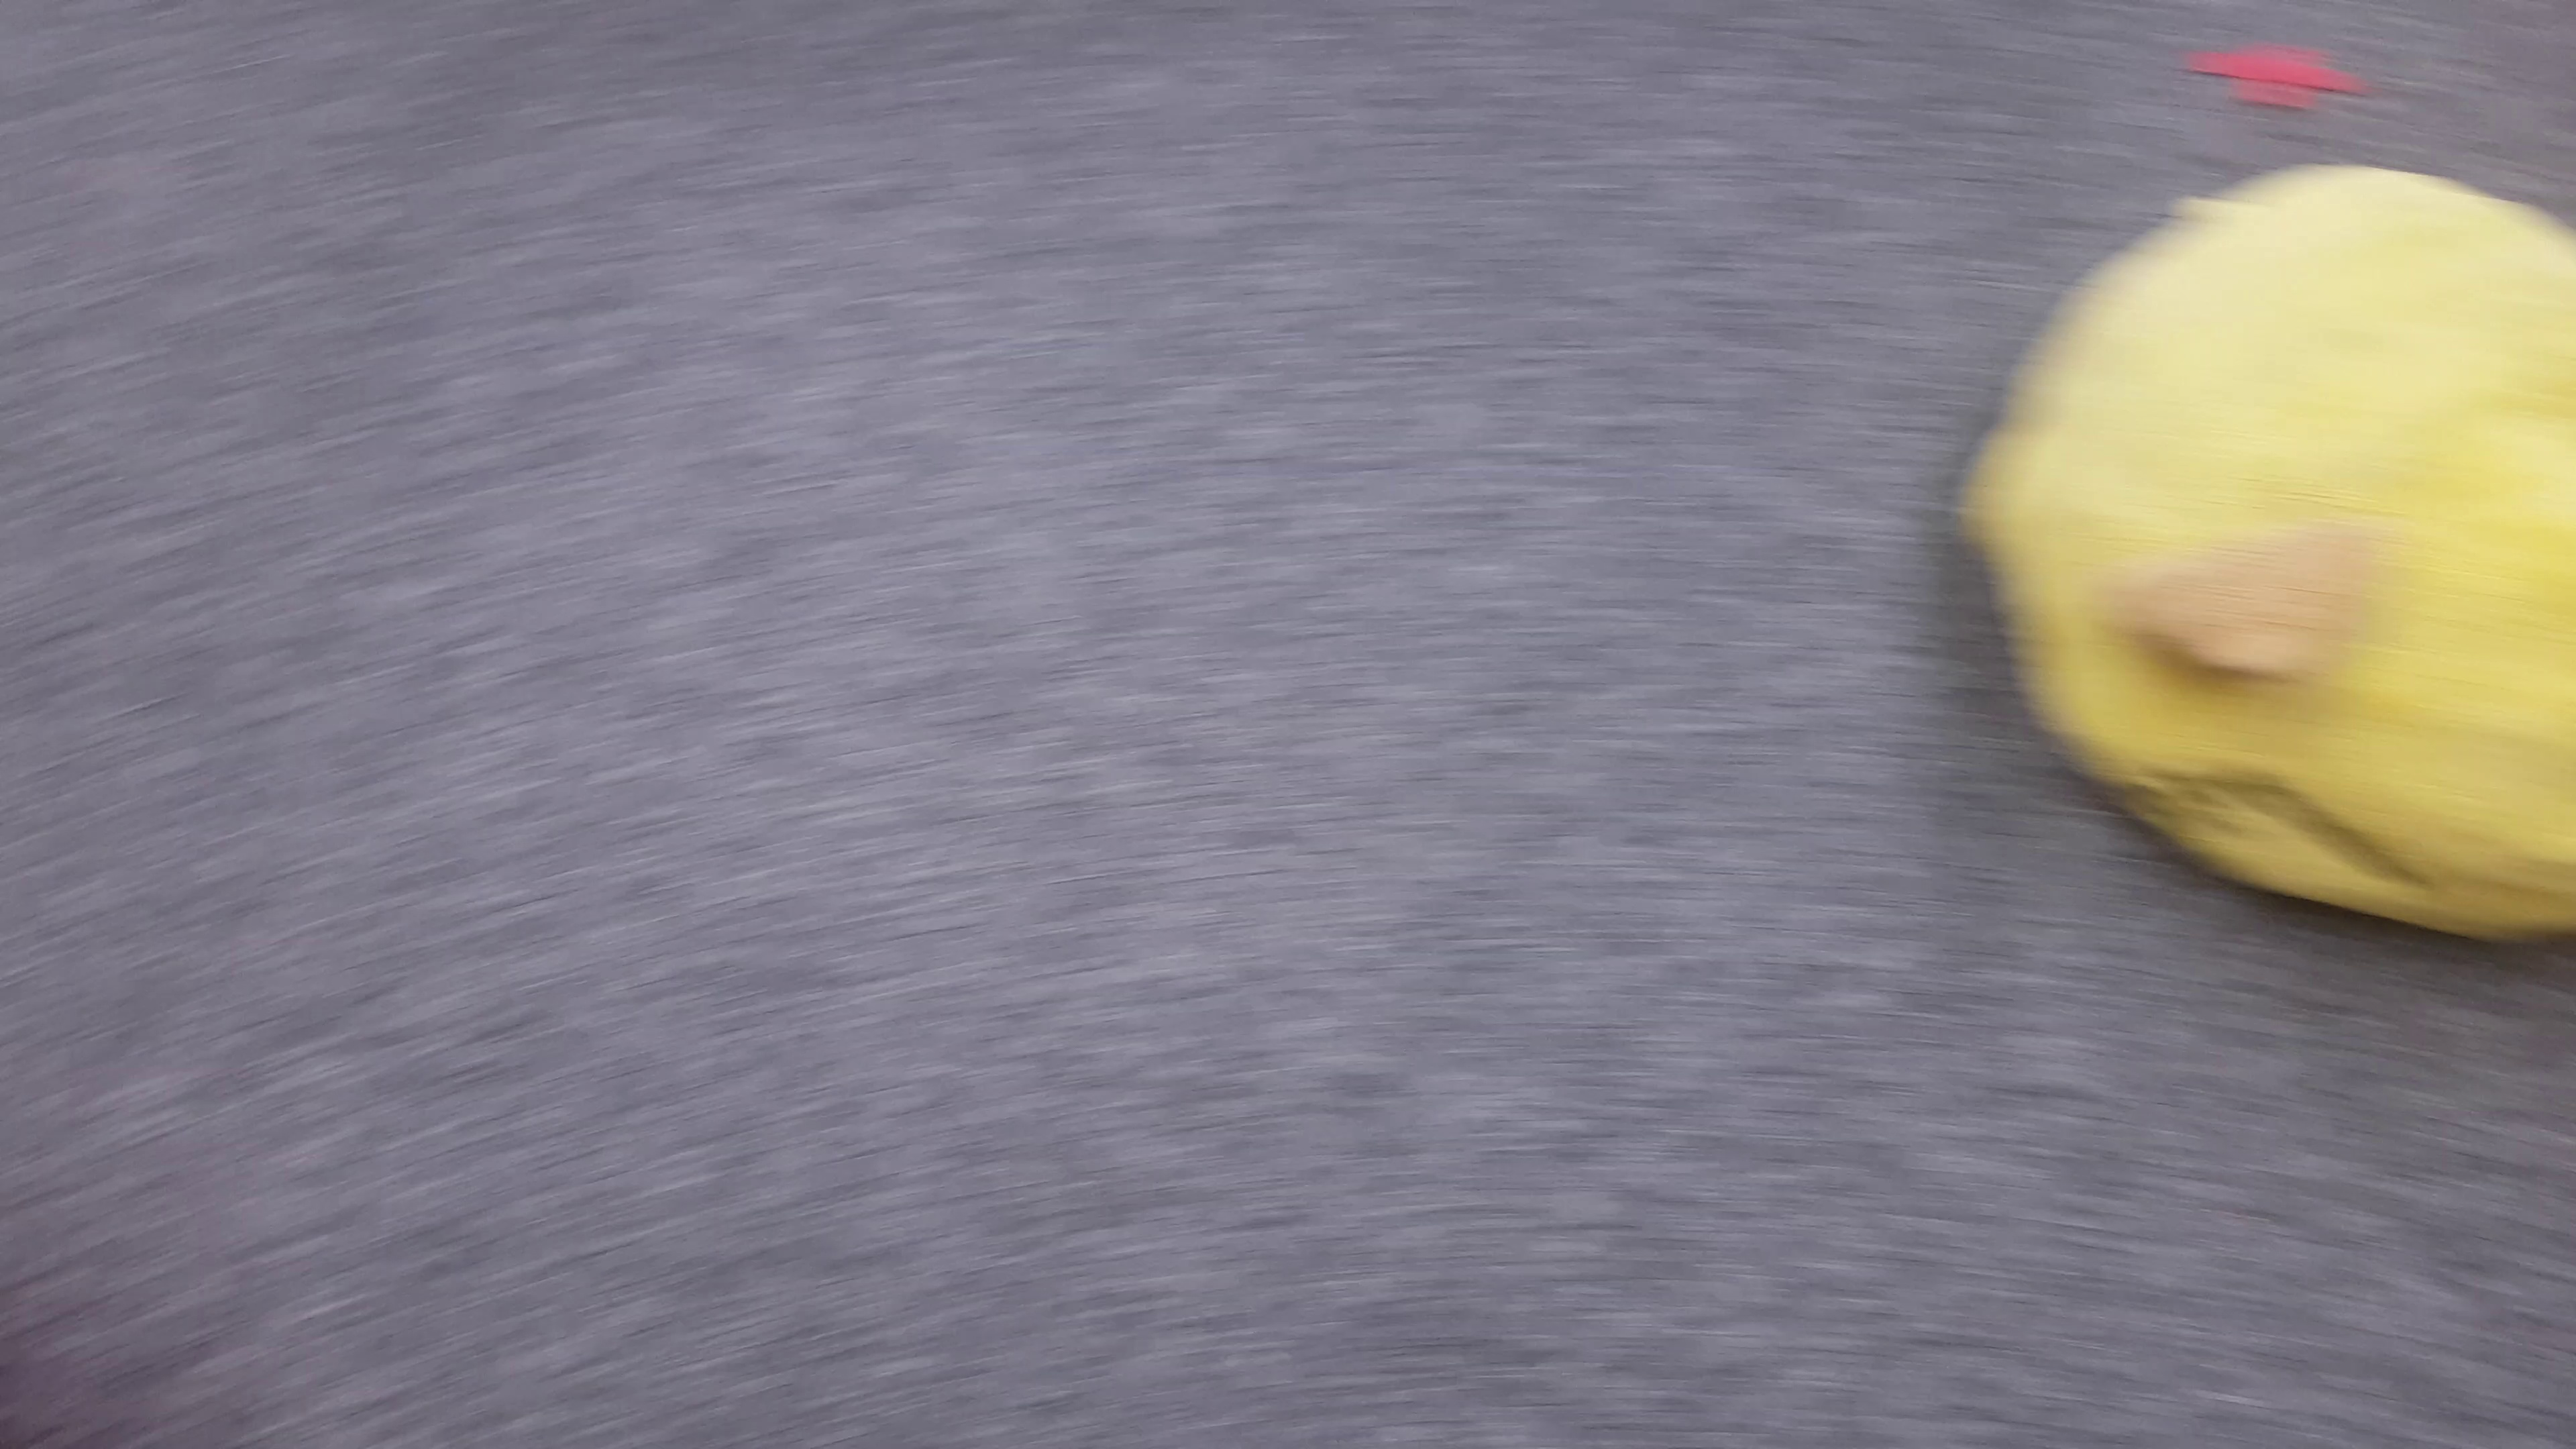grasp: (1966, 159, 2576, 943)
